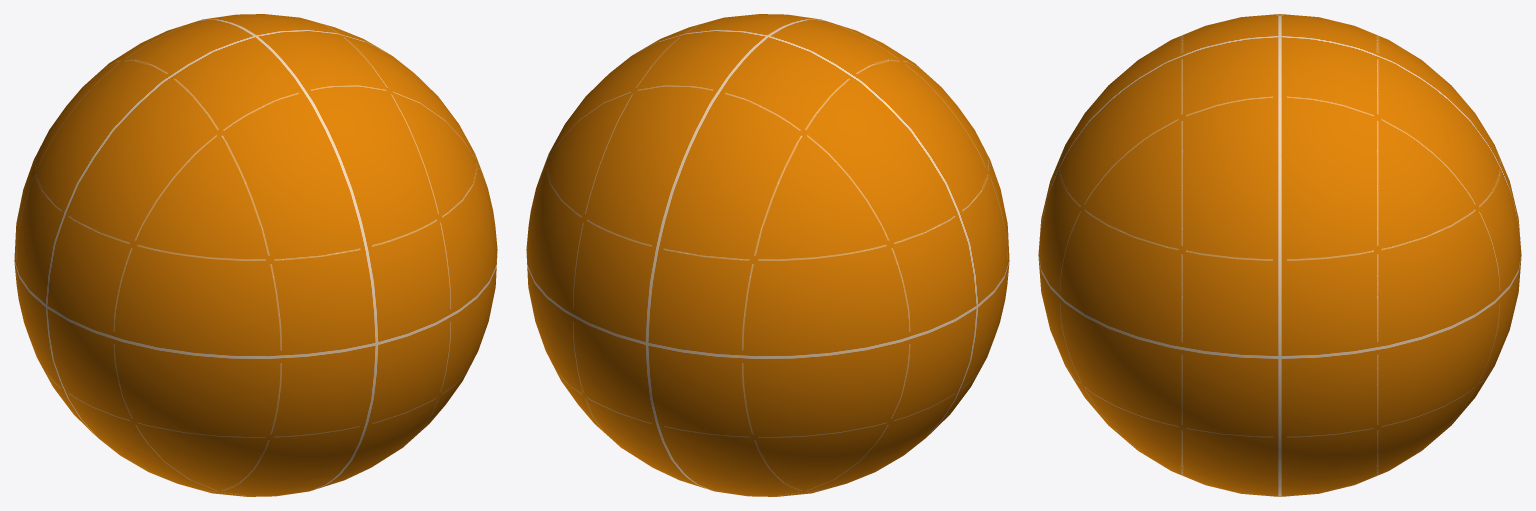
3 views of the same model, side by side, from view 1: azimuth 30°, elevation 25°; view 2: azimuth 150°, elevation 25°; view 3: azimuth 270°, elevation 25° (orthographic).
Parts seen in each view (by area): view 1: Icosphere_HQ_Icosphere.003; view 2: Icosphere_HQ_Icosphere.003; view 3: Icosphere_HQ_Icosphere.003.
Boxes of the visible parts, x1,y1,x2,y2 form: Icosphere_HQ_Icosphere.003: (14, 14, 497, 496); Icosphere_HQ_Icosphere.003: (526, 14, 1009, 496); Icosphere_HQ_Icosphere.003: (1038, 14, 1521, 496).
Bounding box in the file's own units: 1 × 1 × 1.
Materials: 1 (1 with a texture image).
